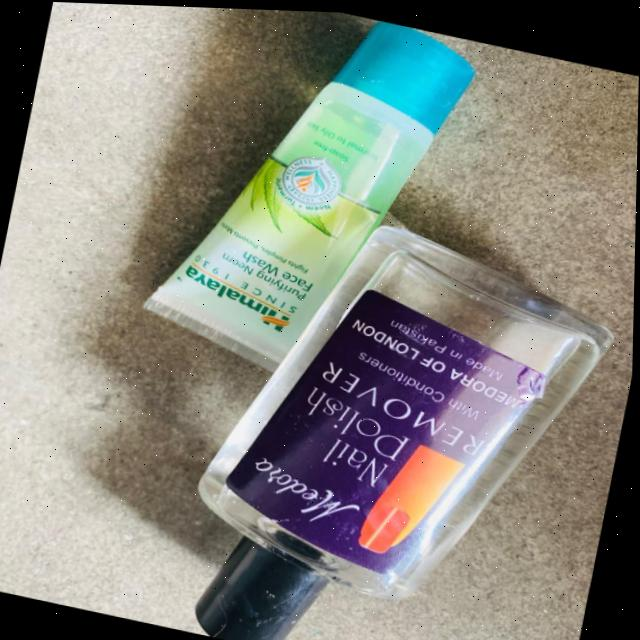nail polish remover: (156, 184, 637, 640)
